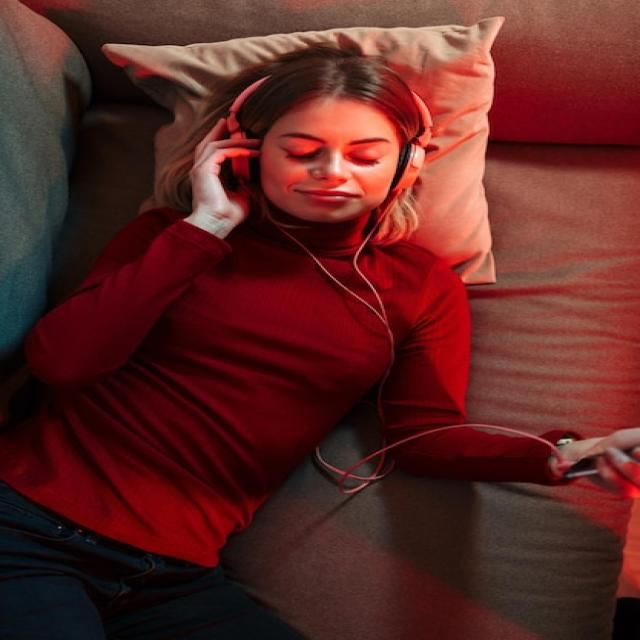Headphone: (226, 65, 436, 198)
